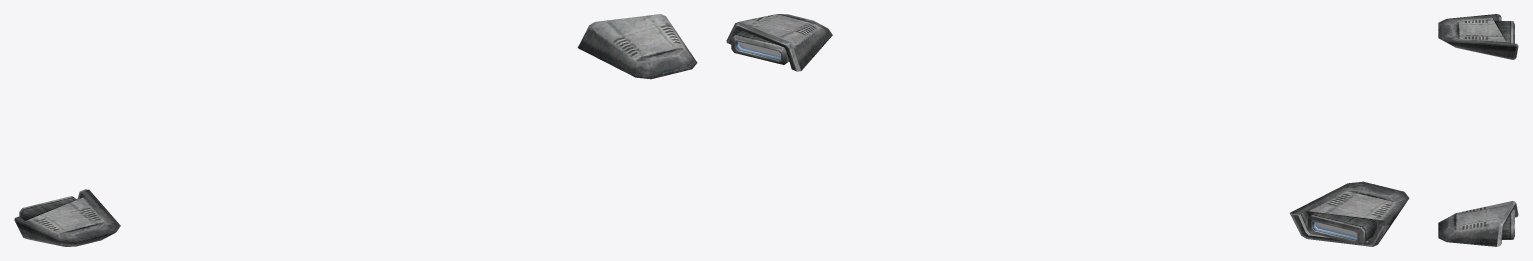
The model's file is xwing_booster_neg_s01_l0.fbx.
3 renders of one model, left to right at view 1: azimuth 30°, elevation 25°; view 2: azimuth 150°, elevation 25°; view 3: azimuth 270°, elevation 25°, orthographic. The views are drawn at different scales.
Visible parts, largest first — view 1: mesh_node; view 2: mesh_node; view 3: mesh_node.
Part boxes in pixels (x1,y1,x2,y2): mesh_node: (14, 14, 697, 246); mesh_node: (726, 14, 1409, 246); mesh_node: (1438, 14, 1518, 246).
Bounding box in the file's own units: 8.63 × 0.8791 × 1.17.
